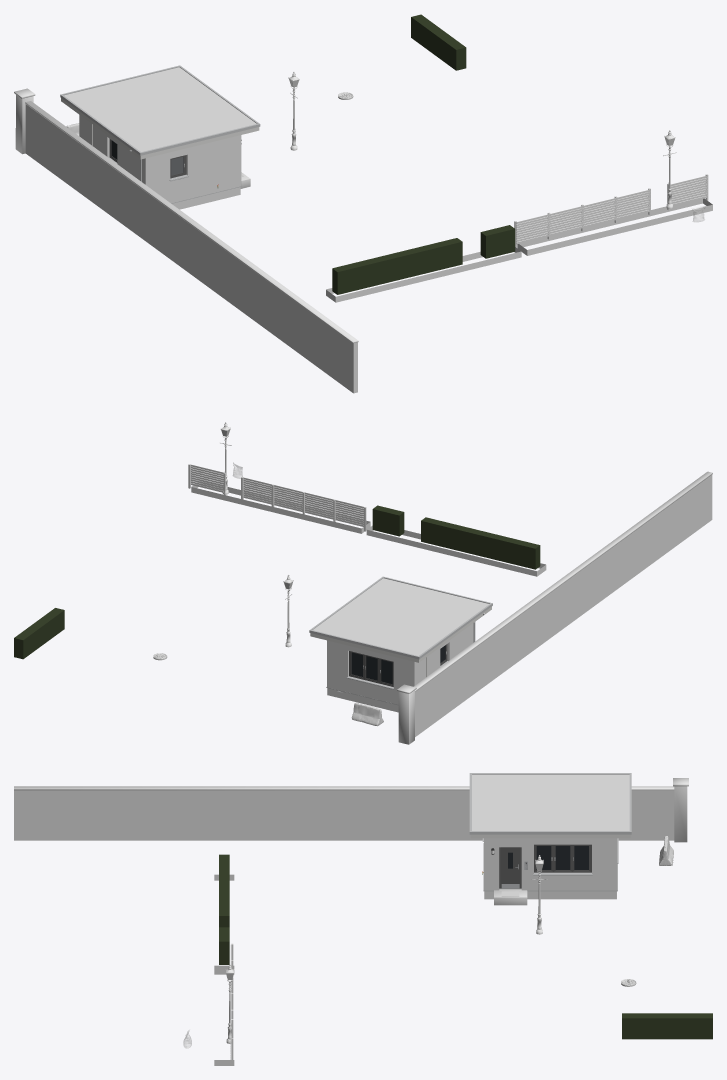
File: cell_m2_m1.lite.glb
3 renders of one model, top to bottom at view 1: azimuth 30°, elevation 25°; view 2: azimuth 150°, elevation 25°; view 3: azimuth 270°, elevation 25°, orthographic. The views are drawn at different scales.
Parts seen in each view (by area): view 1: cell_m2_m1; view 2: cell_m2_m1; view 3: cell_m2_m1.
Part boxes in pixels (<box>): cell_m2_m1: <box>14,14,712,393</box>; cell_m2_m1: <box>14,422,712,744</box>; cell_m2_m1: <box>14,773,712,1065</box>.
Size of the model in its own units: 24.4 by 4.18 by 31.39.
